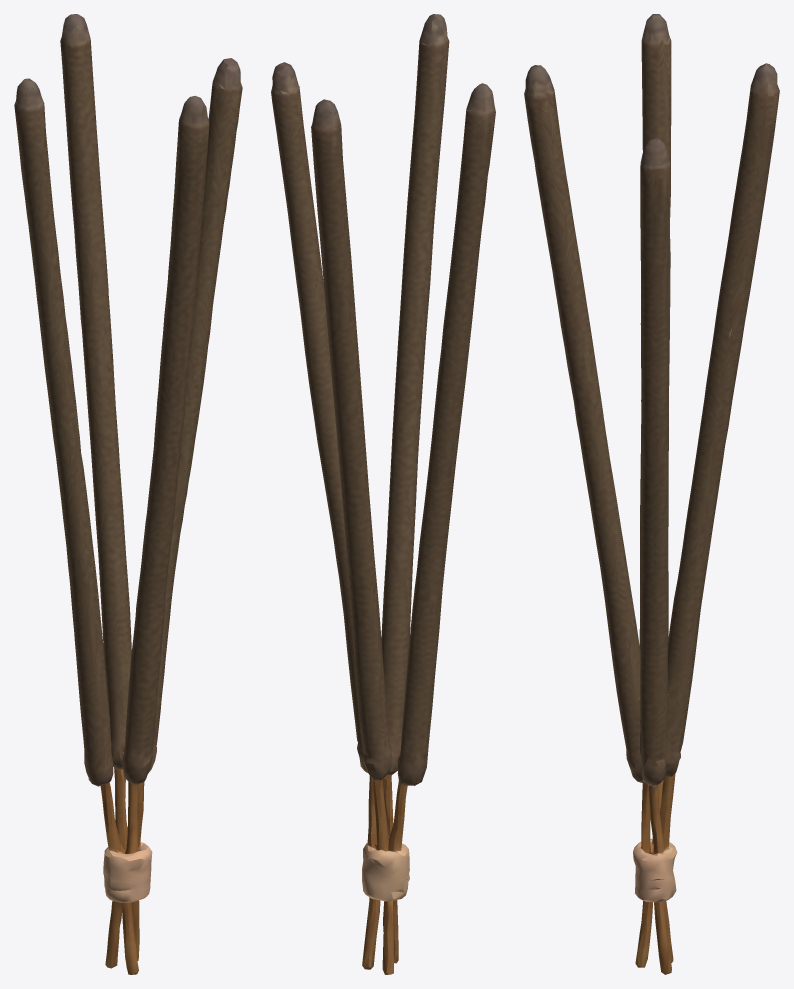
3 renders of one model, left to right at view 1: azimuth 30°, elevation 25°; view 2: azimuth 150°, elevation 25°; view 3: azimuth 270°, elevation 25°, orthographic.
Visible parts, largest first — view 1: incense; view 2: incense; view 3: incense.
Boxes of the visible parts, bbox=[...] form: incense: bbox=[14, 14, 242, 974]; incense: bbox=[271, 14, 495, 974]; incense: bbox=[524, 14, 779, 974].
Size of the model in its own units: 6.13 by 24.01 by 6.14.
Materials: 1 (1 with a texture image).
